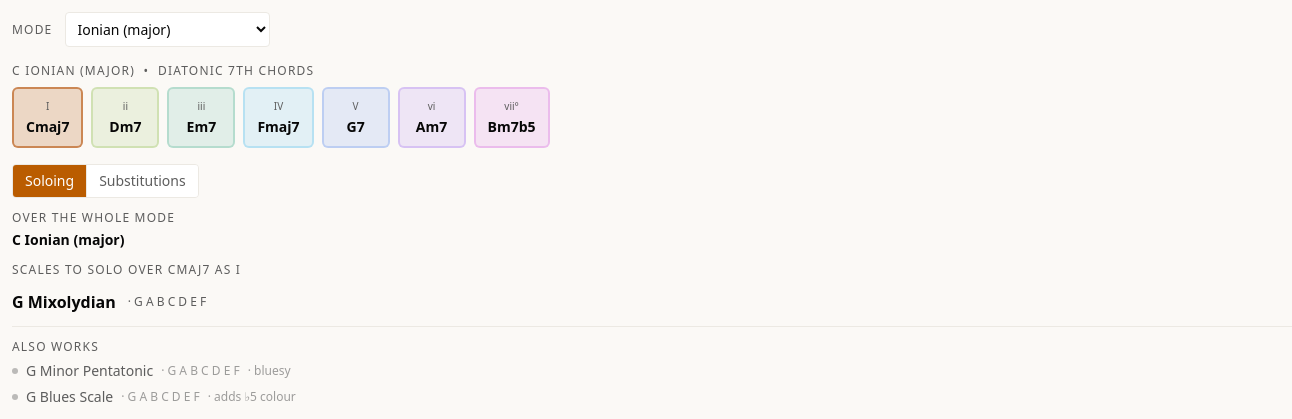
Test: HarmonyTab › does not show tabs when no chord is selected
Click the button "I Cmaj7" at [48, 117], box [12, 87, 83, 148]
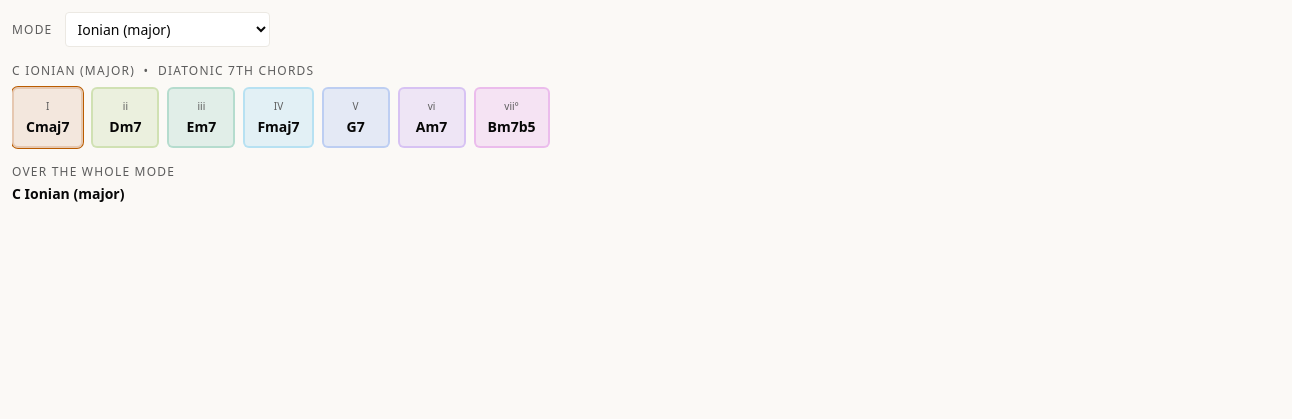
Now the button "Soloing" is gone
Now the button "Substitutions" is gone
